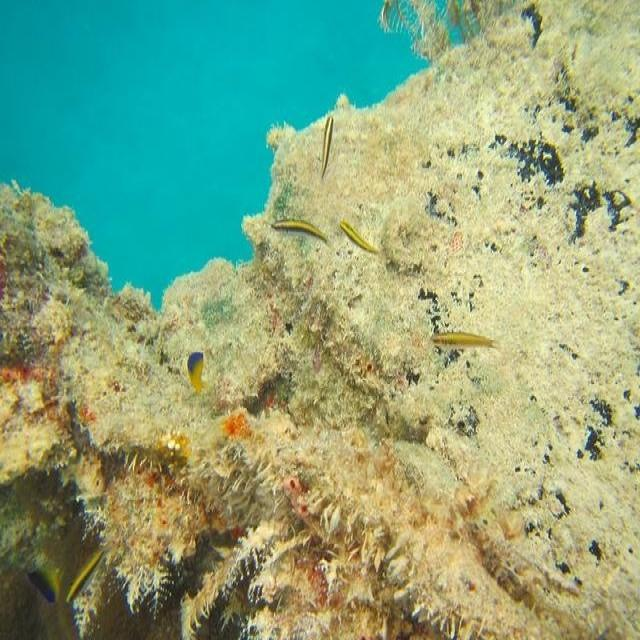fish: (271, 218, 335, 252), (431, 332, 504, 352), (340, 219, 379, 253), (322, 118, 334, 177)
sea-floor: (0, 0, 639, 639)
